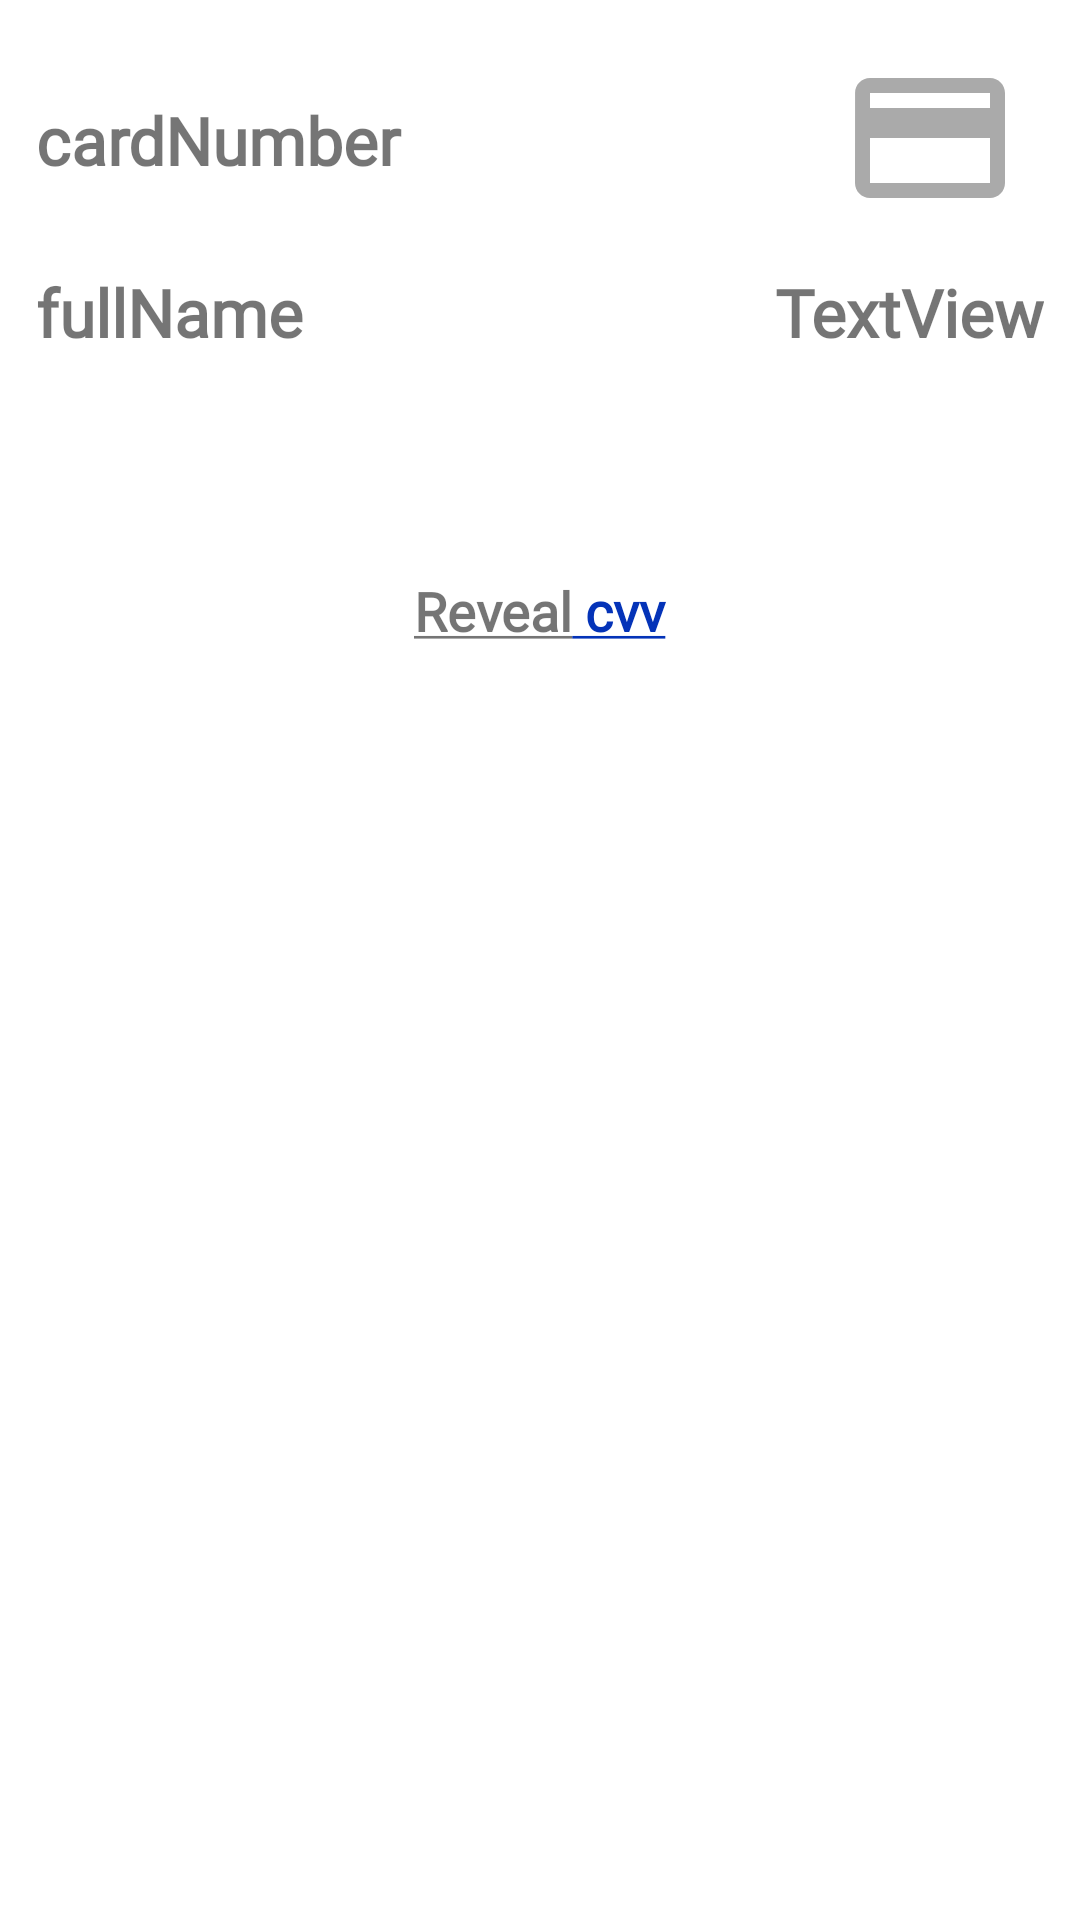

Icons on this 1080 x 1920 Android screen, each with its box as BBox(x1, y1, x2, y2):
credit card: BBox(855, 78, 1005, 198)
